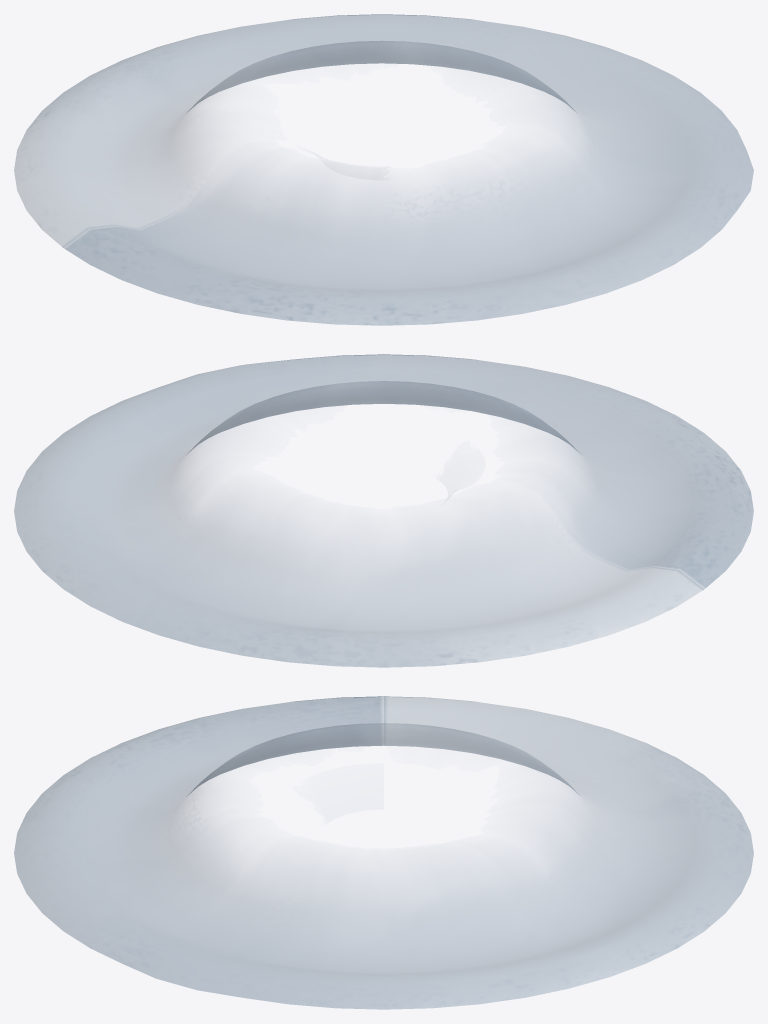
File: smallSplash.fbx
3 views of the same model, one above another, from view 1: azimuth 30°, elevation 25°; view 2: azimuth 150°, elevation 25°; view 3: azimuth 270°, elevation 25° (orthographic).
Visible parts, largest first — view 1: TinySplash; view 2: TinySplash; view 3: TinySplash.
Part boxes in pixels (x1,y1,x2,y2): TinySplash: [14, 14, 753, 325]; TinySplash: [14, 354, 753, 667]; TinySplash: [14, 696, 753, 1009].
Size of the model in its own units: 2844 by 257 by 2844.
